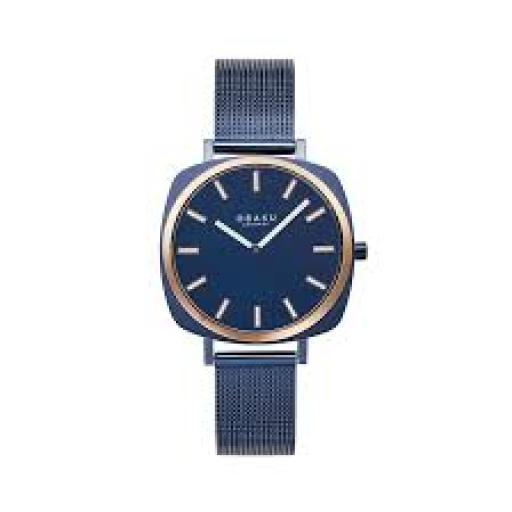KolSaati: (154, 35, 377, 471)
